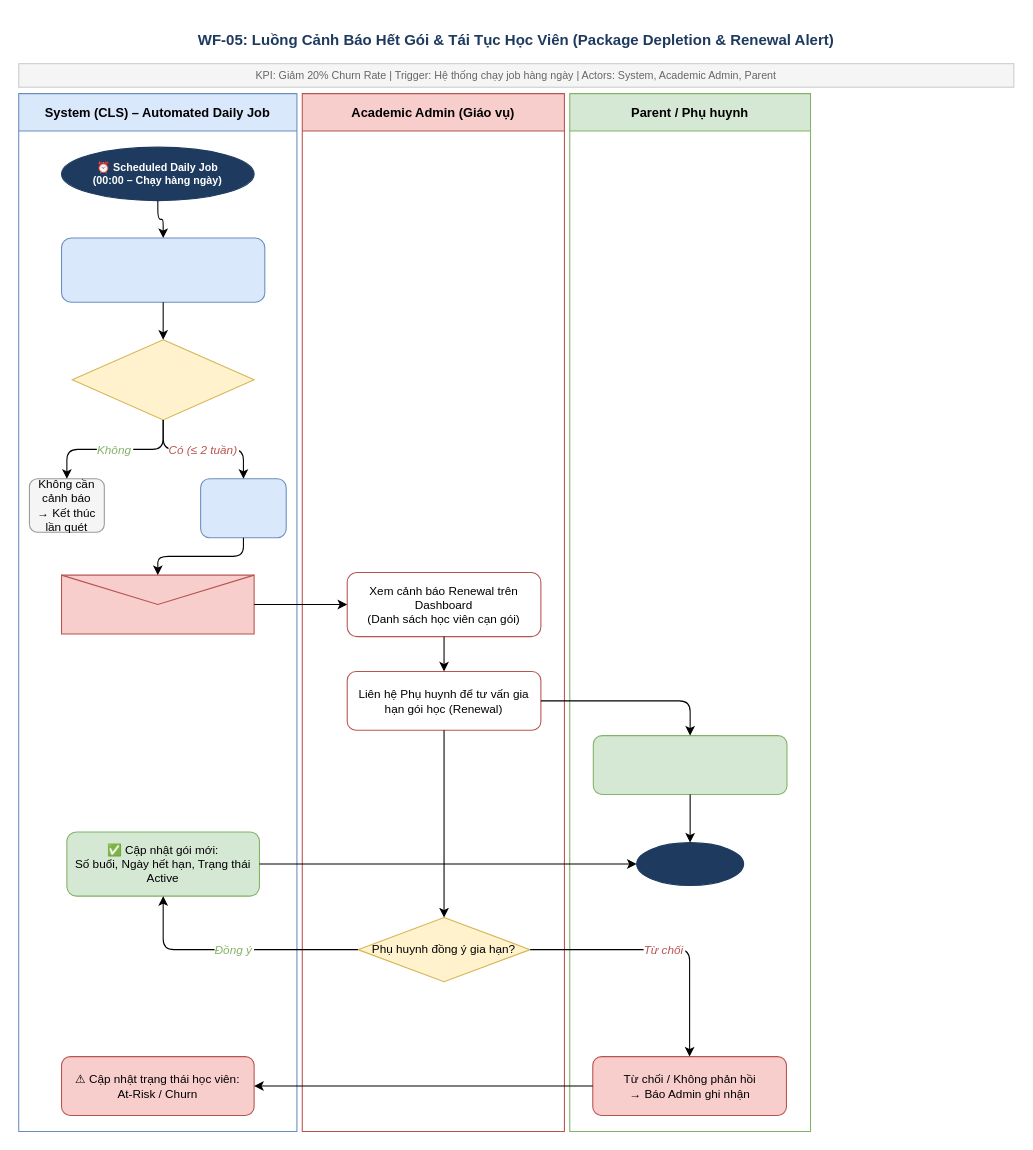
Image size: 1033x1150. Some labels were removed from this diagram. Each missing label, with the centre of its shape:
"Kết thúc" goes at point 690,863.
"Quét toàn bộ học viên đang hoạt động → Tính số buổi còn lại" goes at point 162,269.
"Số buổi còn lại ≤ ngưỡng (tương đương 2 tuần)?" goes at point 162,379.
"Tạo Renewal Alert Record (linked to student profile)" goes at point 243,508.
"Xác nhận gia hạn gói học (đồng ý thanh toán)" goes at point 689,764.
"📧 Gửi cảnh báo Renewal tới Academic Admin (Email / Dashboard)" goes at point 157,604.
